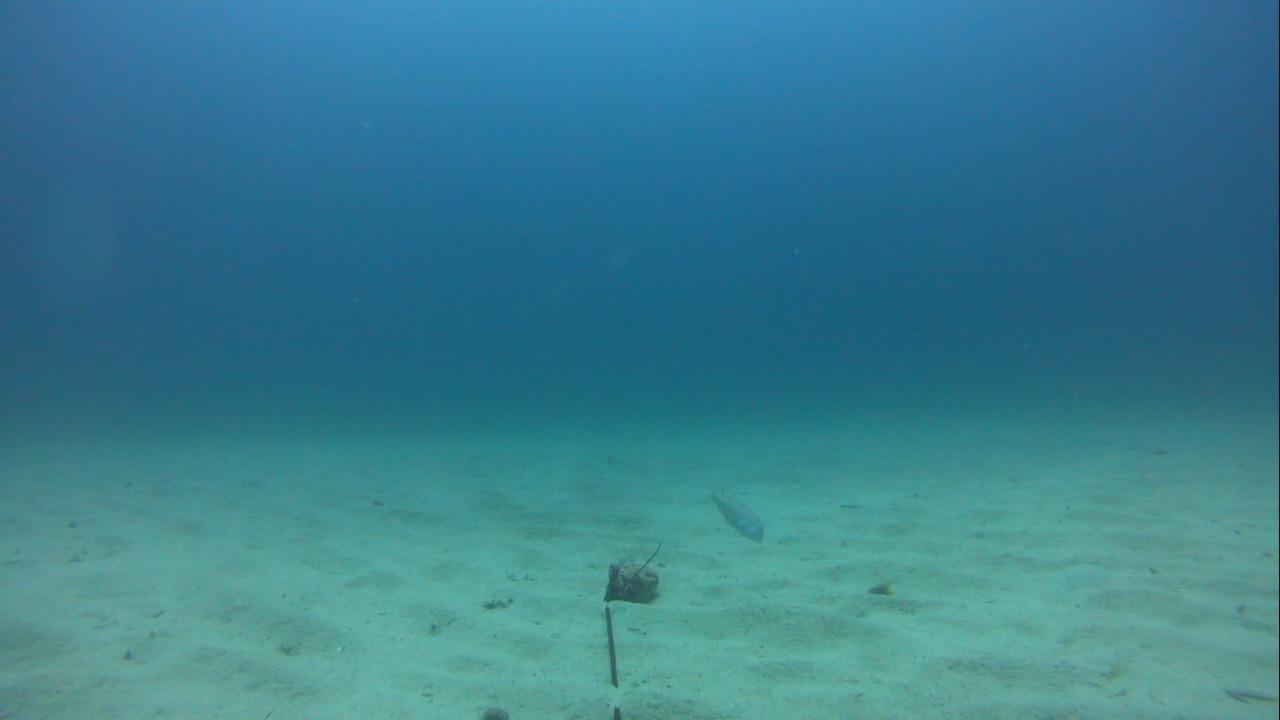raor: (702, 481, 765, 540)
